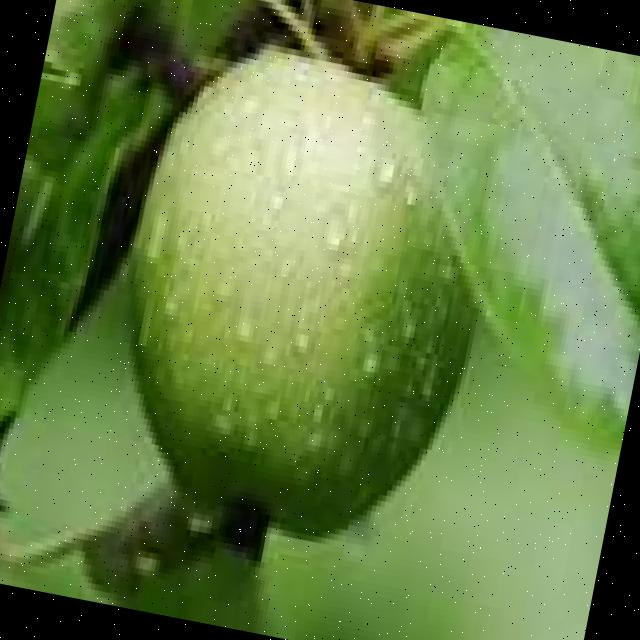Unripe: (83, 29, 520, 564)
